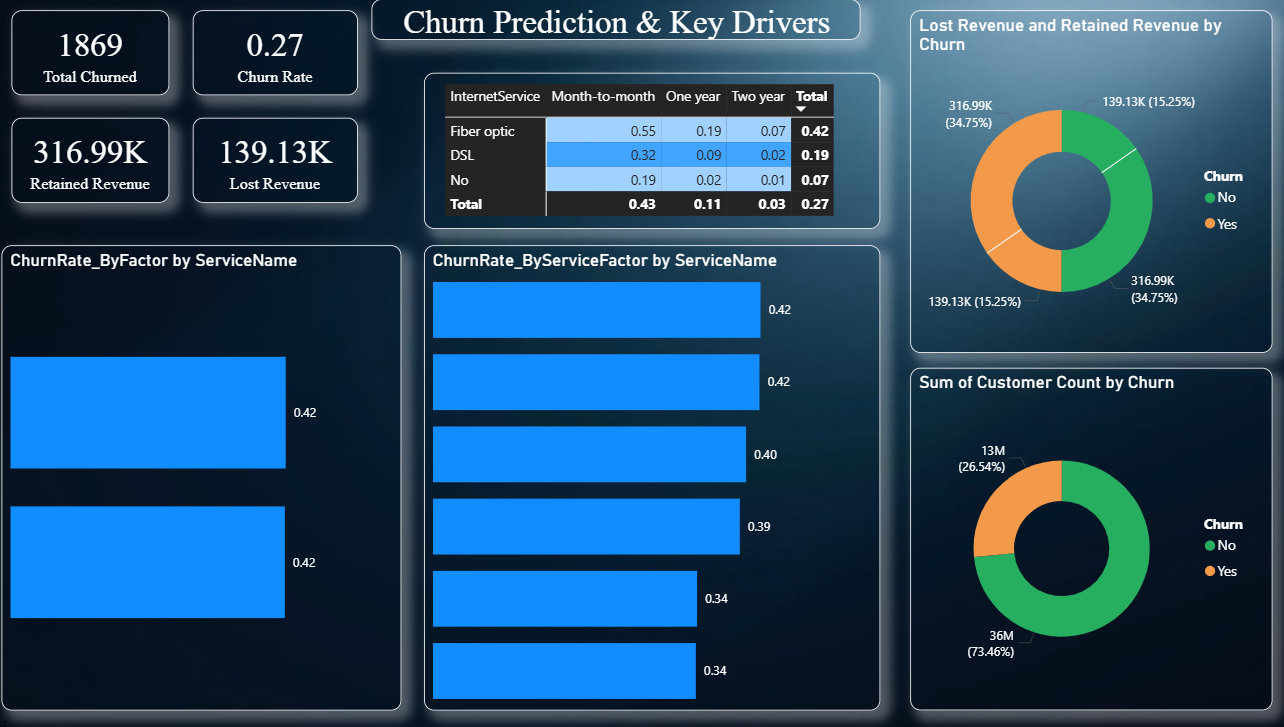

The page's visual inventory and layout, read from the dashboard file:
{"tool":"powerbi","page":{"name":"Churn Prediction & Key Drivers","canvas":[1280,720],"ordinal":3},"visuals":[{"type":"textbox","title":"Churn Prediction & Key Drivers","box":[374.2,0,478.1,40.4],"z":0},{"type":"card","fields":{"Values":["Customer Churn Analysis.Churn Rate"]},"box":[199.3,11,161.4,83.2],"z":1000},{"type":"card","fields":{"Values":["Customer Churn Analysis.Total Churned"]},"box":[22,11,154.1,83.2],"z":2000},{"type":"clusteredBarChart","fields":{"Category":["Service list.ServiceName"],"Y":["Customer Churn Analysis.ChurnRate_ByServiceFactor"]},"box":[425.5,240.9,446.3,454.9],"z":3000},{"type":"donutChart","fields":{"Category":["Customer Churn Analysis.Churn"],"Y":["Customer Churn Analysis.Lost Revenue","Customer Churn Analysis.Retained Revenue"]},"box":[901.2,11,354.6,335.1],"z":5000},{"type":"pivotTable","fields":{"Rows":["Customer Churn Analysis.InternetService"],"Columns":["Customer Churn Analysis.Contract"],"Values":["Customer Churn Analysis.Churn Rate"]},"box":[425.5,72.1,446.3,152.9],"z":7000},{"type":"barChart","fields":{"Category":["Service list.ServiceName"],"Y":["Customer Churn Analysis.ChurnRate_ByFactor"]},"box":[12.2,240.9,391.3,454.9],"z":7001},{"type":"card","fields":{"Values":["Customer Churn Analysis.Lost Revenue"]},"box":[199.3,116.2,161.4,83.2],"z":7002},{"type":"card","fields":{"Values":["Customer Churn Analysis.Retained Revenue"]},"box":[22,116.2,154.1,83.2],"z":7003},{"type":"donutChart","fields":{"Category":["Customer Churn Analysis.Churn"],"Y":["Sum(Customer Churn Analysis.Customer Count)"]},"box":[901.2,360.7,354.6,335.1],"z":7004}]}

Visuals, with their boxes in screenshot pixels (x1, y1, x2, y2), scaled from the page's 1280x720 canvas onto the 1284x727 screenshot:
"Churn Prediction & Key Drivers" textbox: [x1=375, y1=0, x2=855, y2=41]
card - Customer Churn Analysis.Churn Rate: [x1=200, y1=11, x2=362, y2=95]
card - Customer Churn Analysis.Total Churned: [x1=22, y1=11, x2=177, y2=95]
clusteredBarChart - Service list.ServiceName x Customer Churn Analysis.ChurnRate_ByServiceFactor: [x1=427, y1=243, x2=875, y2=703]
donutChart - Customer Churn Analysis.Churn x Customer Churn Analysis.Lost Revenue: [x1=904, y1=11, x2=1260, y2=349]
pivotTable - Customer Churn Analysis.InternetService x Customer Churn Analysis.Contract: [x1=427, y1=73, x2=875, y2=227]
barChart - Service list.ServiceName x Customer Churn Analysis.ChurnRate_ByFactor: [x1=12, y1=243, x2=405, y2=703]
card - Customer Churn Analysis.Lost Revenue: [x1=200, y1=117, x2=362, y2=201]
card - Customer Churn Analysis.Retained Revenue: [x1=22, y1=117, x2=177, y2=201]
donutChart - Customer Churn Analysis.Churn x Sum(Customer Churn Analysis.Customer Count): [x1=904, y1=364, x2=1260, y2=703]
